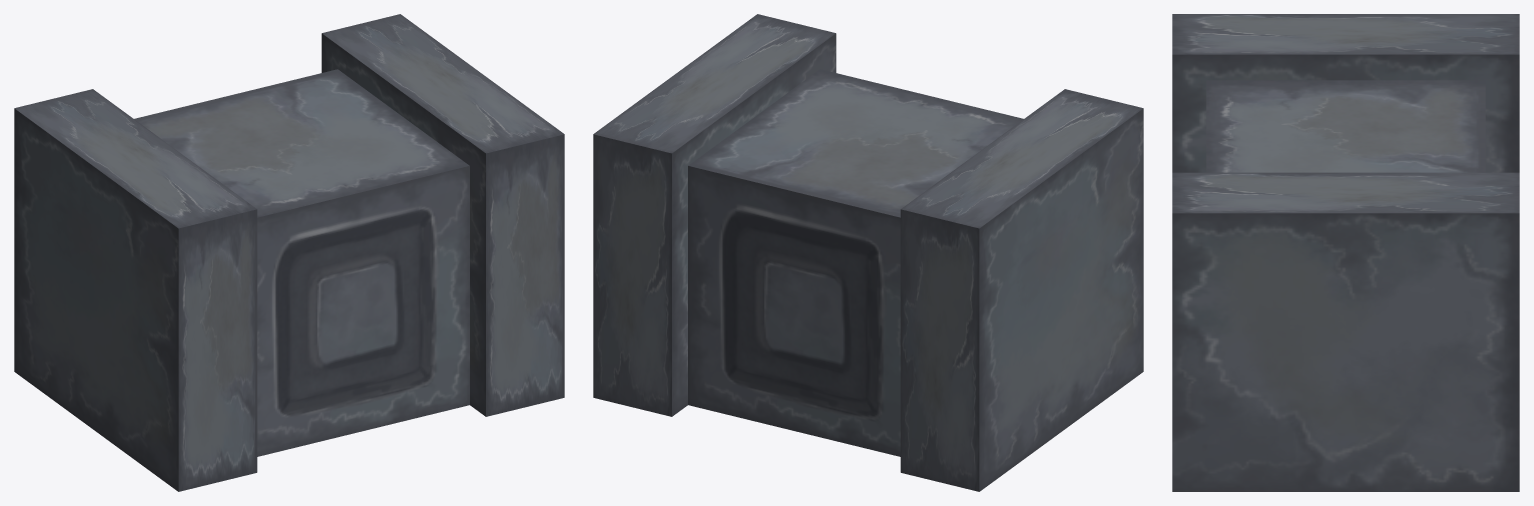
File: Castle Deco Pilar 1.fbx
The picture shows the model from 3 angles, left to right: view 1: azimuth 30°, elevation 25°; view 2: azimuth 150°, elevation 25°; view 3: azimuth 270°, elevation 25°; orthographic projection. The views are drawn at different scales.
Visible parts, largest first — view 1: Castle Deco Pilar 1; view 2: Castle Deco Pilar 1; view 3: Castle Deco Pilar 1.
Boxes of the visible parts, x1=… form: Castle Deco Pilar 1: x1=14, y1=14, x2=564, y2=491; Castle Deco Pilar 1: x1=593, y1=14, x2=1143, y2=491; Castle Deco Pilar 1: x1=1172, y1=14, x2=1519, y2=491.
Size of the model in its own units: 1.27 by 0.8256 by 0.9335.
